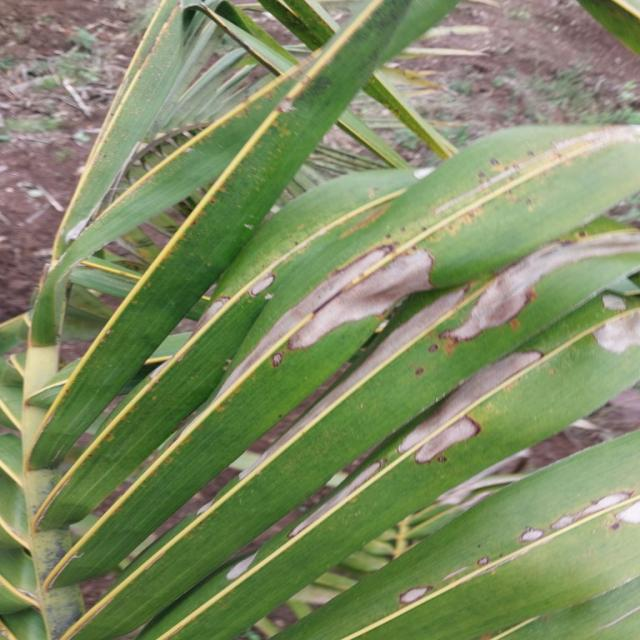gray leaf spot: (230, 192, 624, 467)
